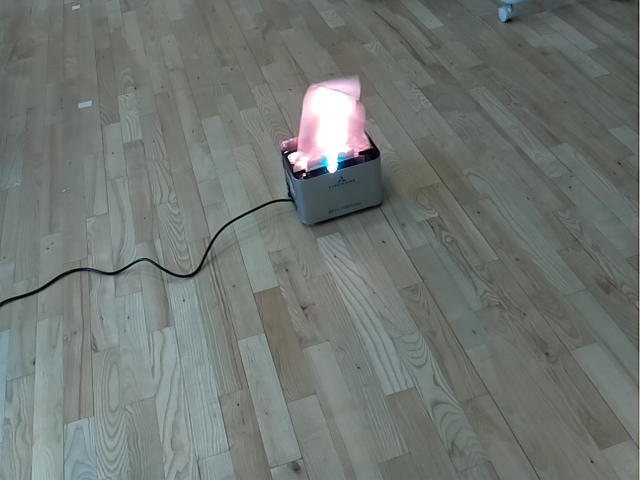fire: (290, 74, 372, 173)
